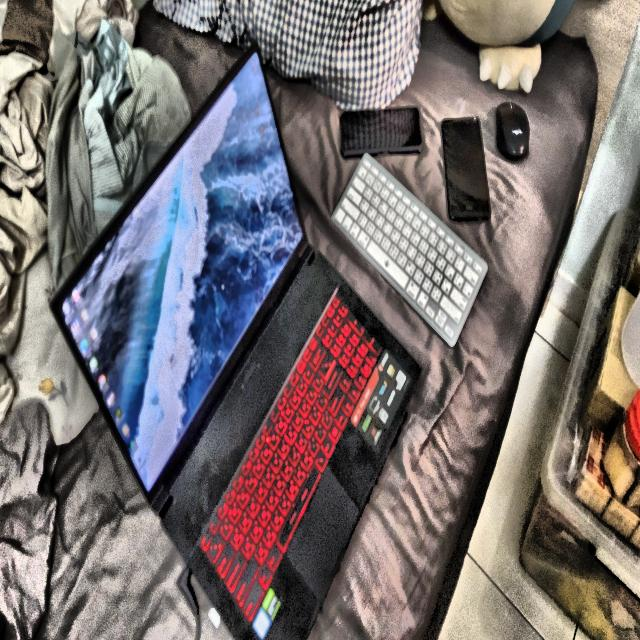laptop: (51, 46, 421, 640)
